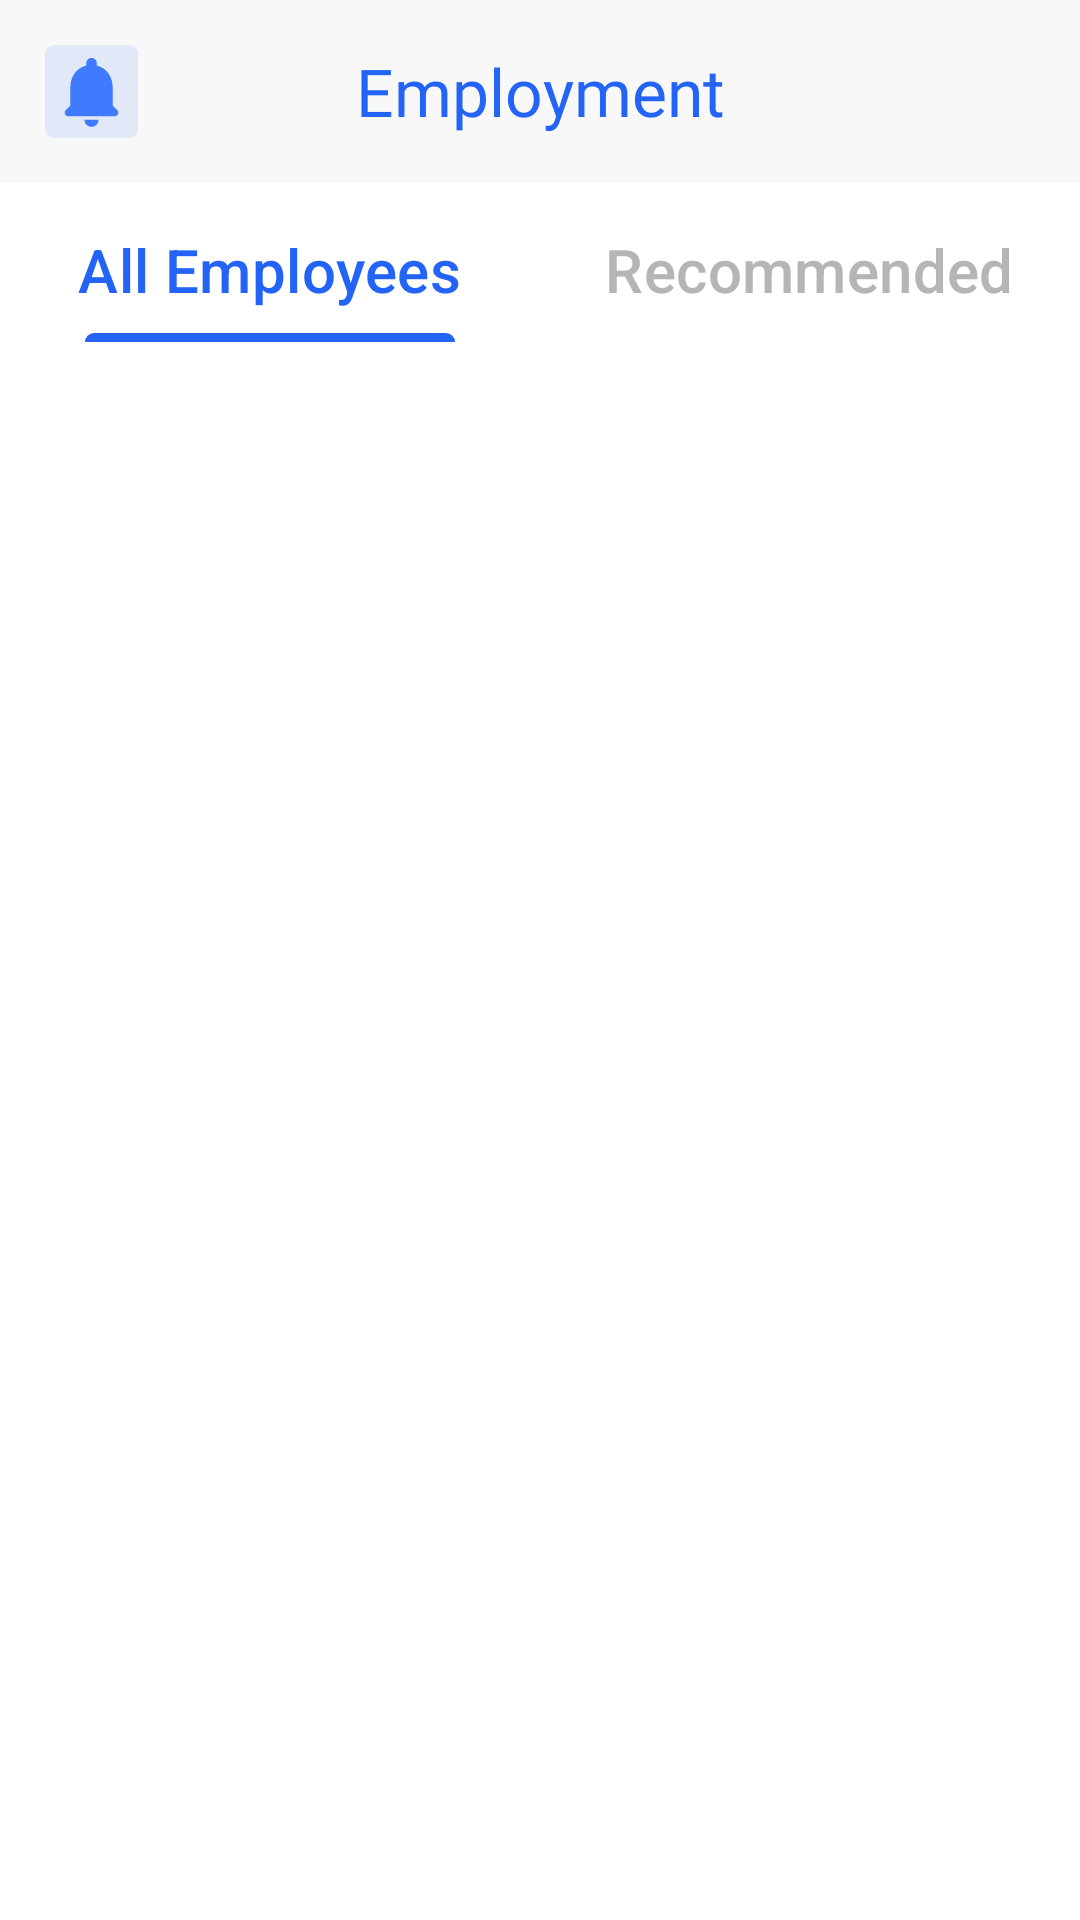

Screen size 1080 x 1920. Icon name, then its center in pixels as (x,y):
notification: (91,92)
